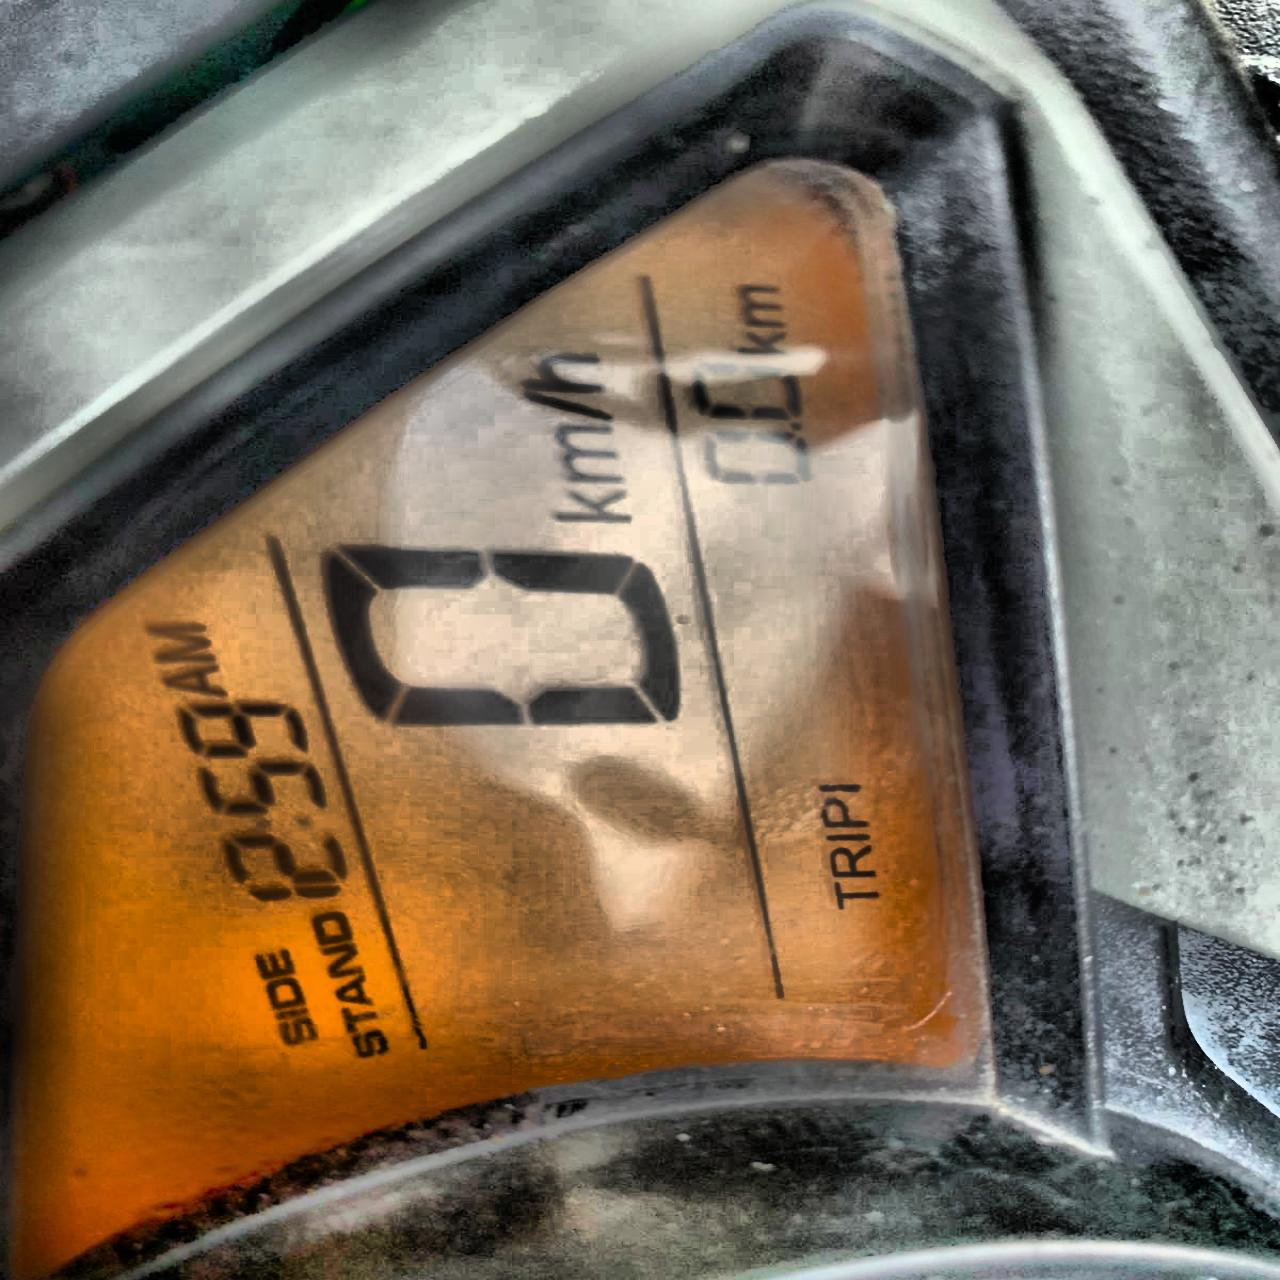-: (785, 422, 810, 433)
0: (336, 545, 685, 728), (688, 361, 808, 417), (693, 431, 813, 486)
1: (244, 883, 350, 906), (808, 777, 867, 796)
2: (220, 835, 353, 883)
5: (190, 760, 331, 812)
9: (173, 700, 313, 754)
X: (505, 347, 620, 390), (542, 485, 646, 529), (554, 422, 625, 484), (144, 615, 215, 666), (515, 389, 617, 422), (733, 282, 794, 327), (162, 661, 232, 696), (722, 327, 792, 358), (824, 844, 886, 878), (811, 801, 876, 828), (826, 881, 883, 911), (252, 946, 297, 980), (324, 945, 369, 978), (349, 1027, 393, 1061), (274, 1019, 321, 1048), (309, 913, 355, 942), (261, 979, 302, 1009), (338, 975, 376, 1006), (247, 813, 320, 829), (339, 1006, 380, 1033), (815, 831, 881, 844), (264, 1006, 316, 1021)
odometer: (0, 127, 1050, 1255)
